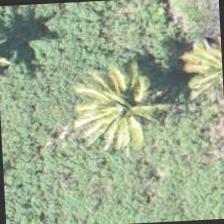Kelapa_Sawit: (77, 67, 172, 162)
